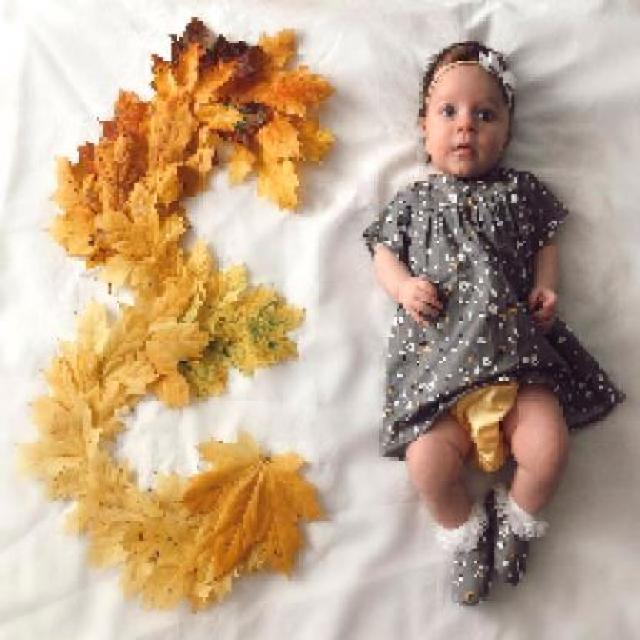child: (360, 35, 629, 608)
